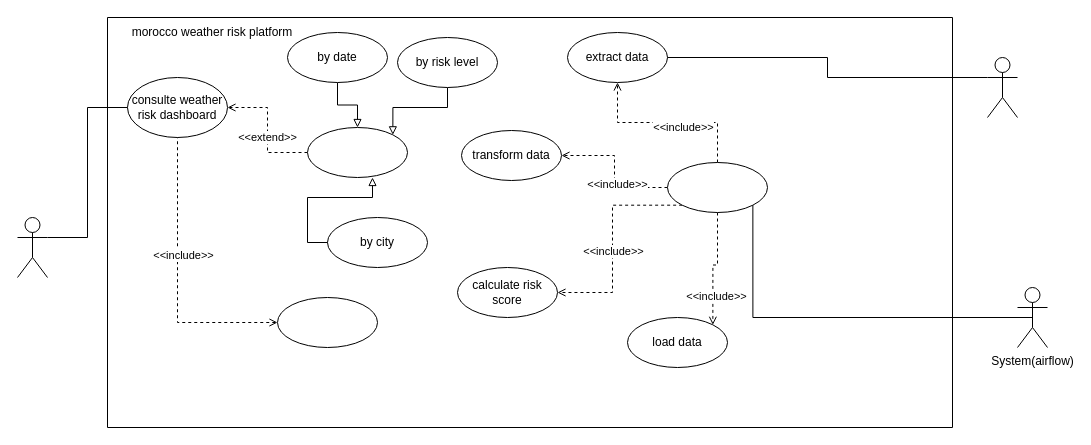
Image size: 1091x445. Some labels were removed from this diagram. Each missing label, with the centre of its shape:
filter: (x=357, y=152)
open meteo api: (x=1002, y=87)
run daily weather pipeline: (x=717, y=187)
User: (x=32, y=247)
view risk score and map: (x=327, y=322)
